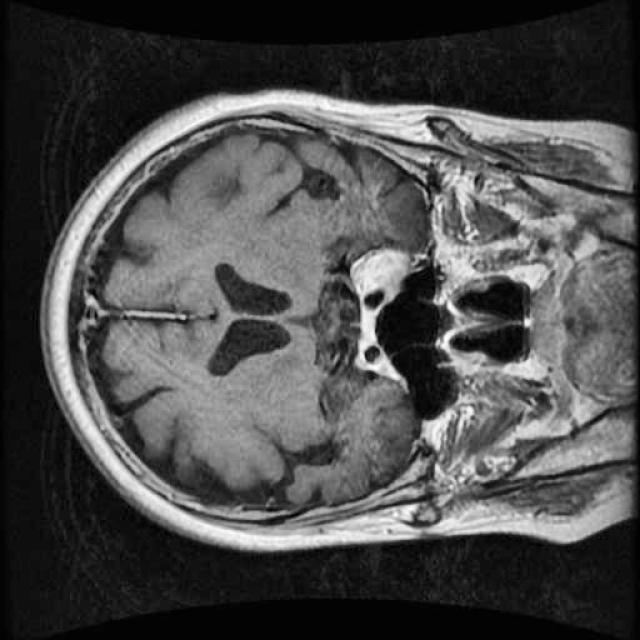Tumor: (341, 238, 419, 314)
